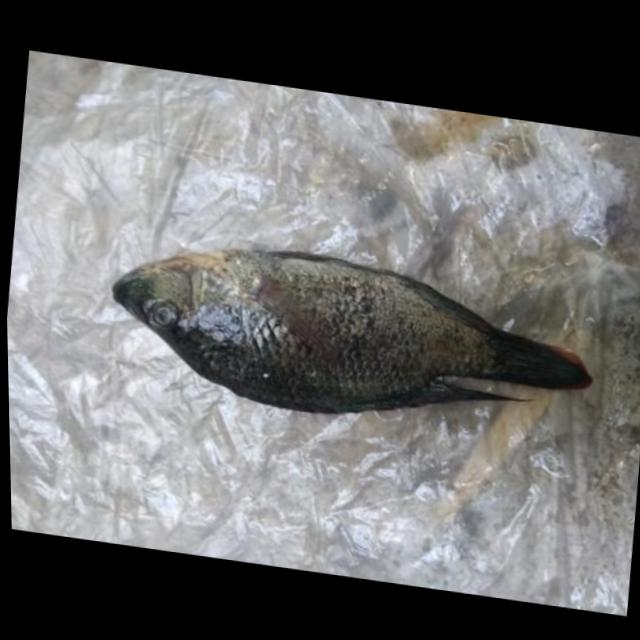Tilapia: (96, 224, 602, 456)
